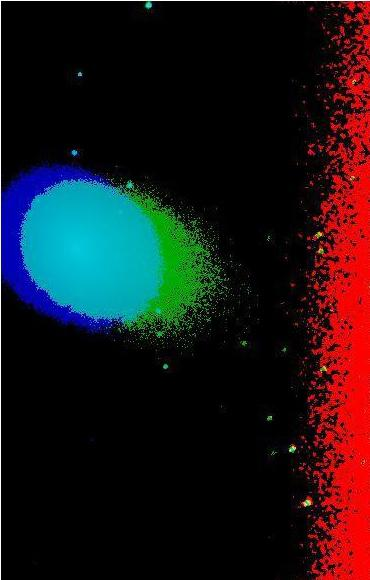star: (128, 183, 158, 213)
